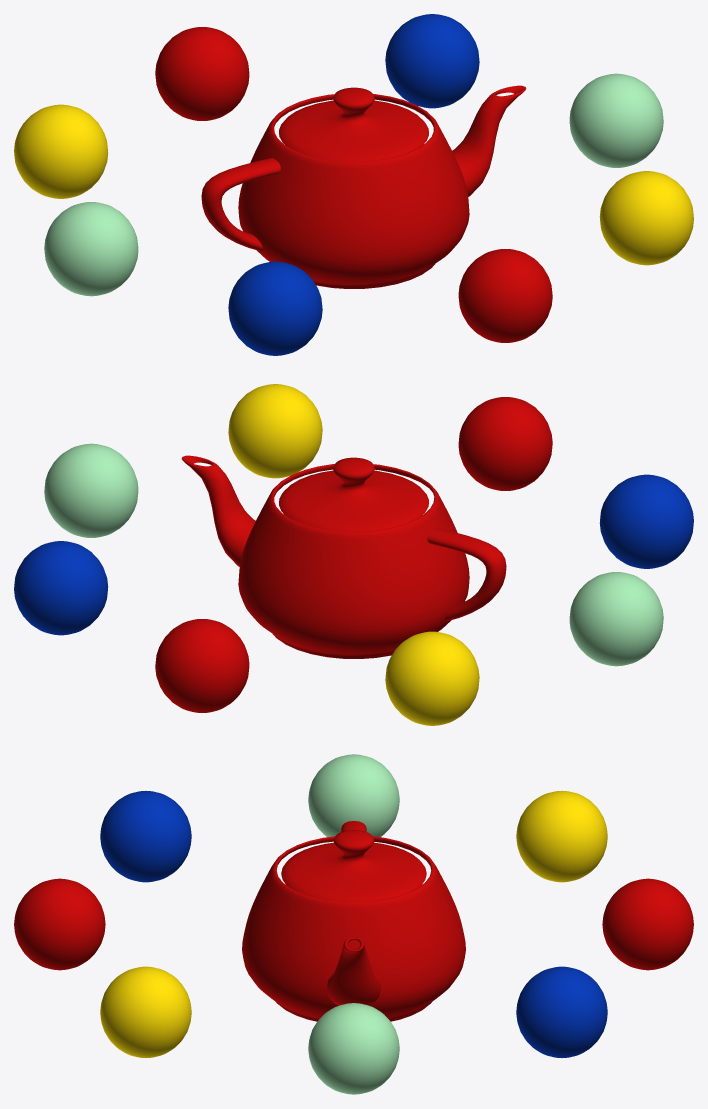
The model's file is color_teapot_spheres.gltf.
The picture shows the model from 3 angles, top to bottom: view 1: azimuth 30°, elevation 25°; view 2: azimuth 150°, elevation 25°; view 3: azimuth 270°, elevation 25°; orthographic projection. The views are drawn at different scales.
Visible parts, largest first — view 1: Teapot01, Sphere05, Sphere06, Sphere01, Sphere02, Sphere03, Sphere04, Sphere07, Sphere08; view 2: Teapot01, Sphere05, Sphere06, Sphere01, Sphere02, Sphere03, Sphere07, Sphere08, Sphere04; view 3: Teapot01, Sphere03, Sphere04, Sphere07, Sphere08, Sphere01, Sphere02, Sphere06, Sphere05.
Boxes of the visible parts, box(x1,y1,x2,y2) form: Teapot01: box(201, 85, 526, 288); Sphere05: box(44, 202, 138, 296); Sphere06: box(569, 73, 663, 167); Sphere01: box(458, 249, 552, 342); Sphere02: box(155, 27, 249, 120); Sphere03: box(14, 104, 108, 198); Sphere04: box(599, 171, 693, 265); Sphere07: box(228, 261, 322, 355); Sphere08: box(385, 14, 479, 108); Teapot01: box(181, 455, 506, 658); Sphere05: box(569, 572, 663, 666); Sphere06: box(44, 443, 138, 537); Sphere01: box(458, 397, 552, 490); Sphere02: box(155, 619, 249, 712); Sphere03: box(385, 631, 479, 725); Sphere07: box(599, 474, 693, 568); Sphere08: box(14, 541, 108, 635); Sphere04: box(228, 384, 322, 478); Teapot01: box(242, 821, 465, 1021); Sphere03: box(516, 791, 607, 882); Sphere04: box(100, 966, 191, 1057); Sphere07: box(100, 791, 191, 882); Sphere08: box(516, 966, 607, 1057); Sphere01: box(14, 878, 105, 970); Sphere02: box(602, 878, 693, 970); Sphere06: box(308, 1003, 399, 1094); Sphere05: box(308, 754, 399, 837).
Bounding box in the file's own units: 1.74 × 0.452 × 1.74.
